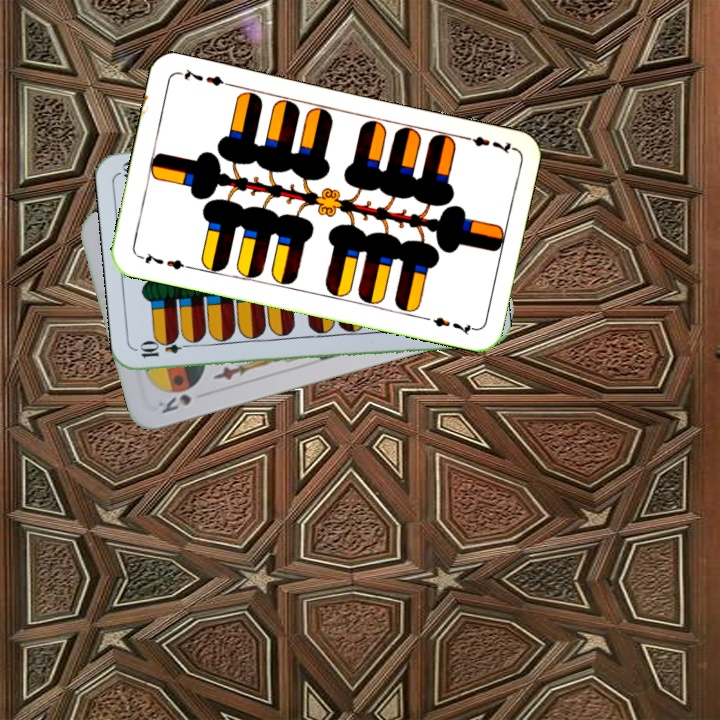E10: (136, 338, 195, 360)
E7: (457, 131, 516, 157), (135, 248, 193, 272)
SK: (154, 390, 194, 416)
